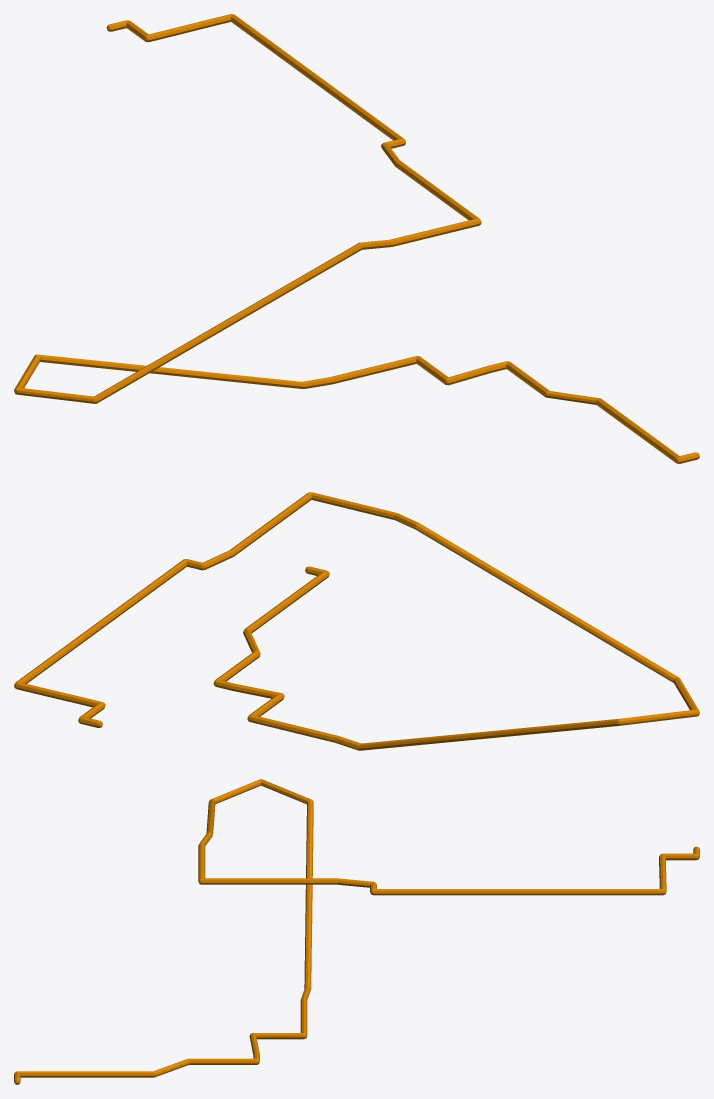
3 views of the same model, one above another, from view 1: azimuth 30°, elevation 25°; view 2: azimuth 150°, elevation 25°; view 3: azimuth 270°, elevation 25° (orthographic). The views are drawn at different scales.
Size of the model in its own units: 1563 by 520 by 2013.
